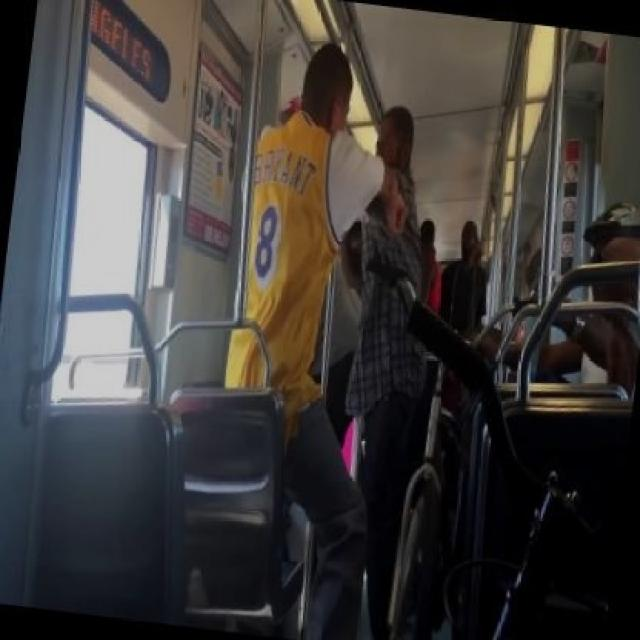fight: (166, 24, 480, 638)
